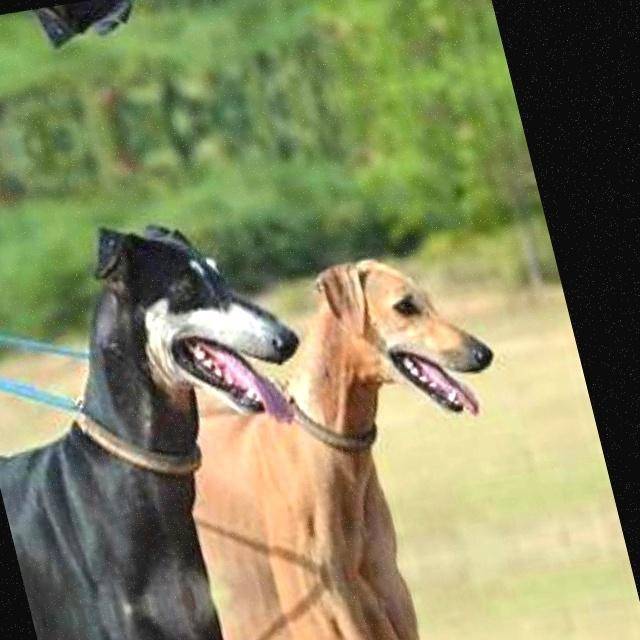dog: (0, 185, 357, 619), (288, 229, 518, 479), (37, 575, 390, 640), (0, 0, 226, 87)
